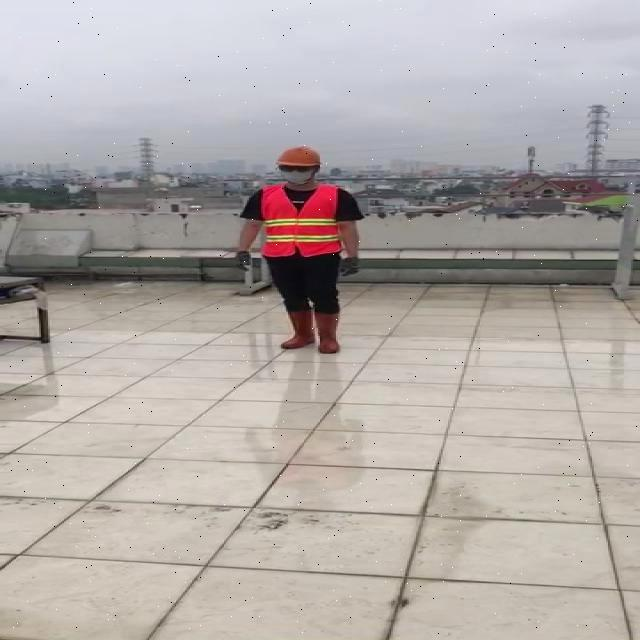Hard_hat: (273, 142, 327, 172)
Person: (231, 146, 368, 437)
Vest: (259, 183, 342, 262)
